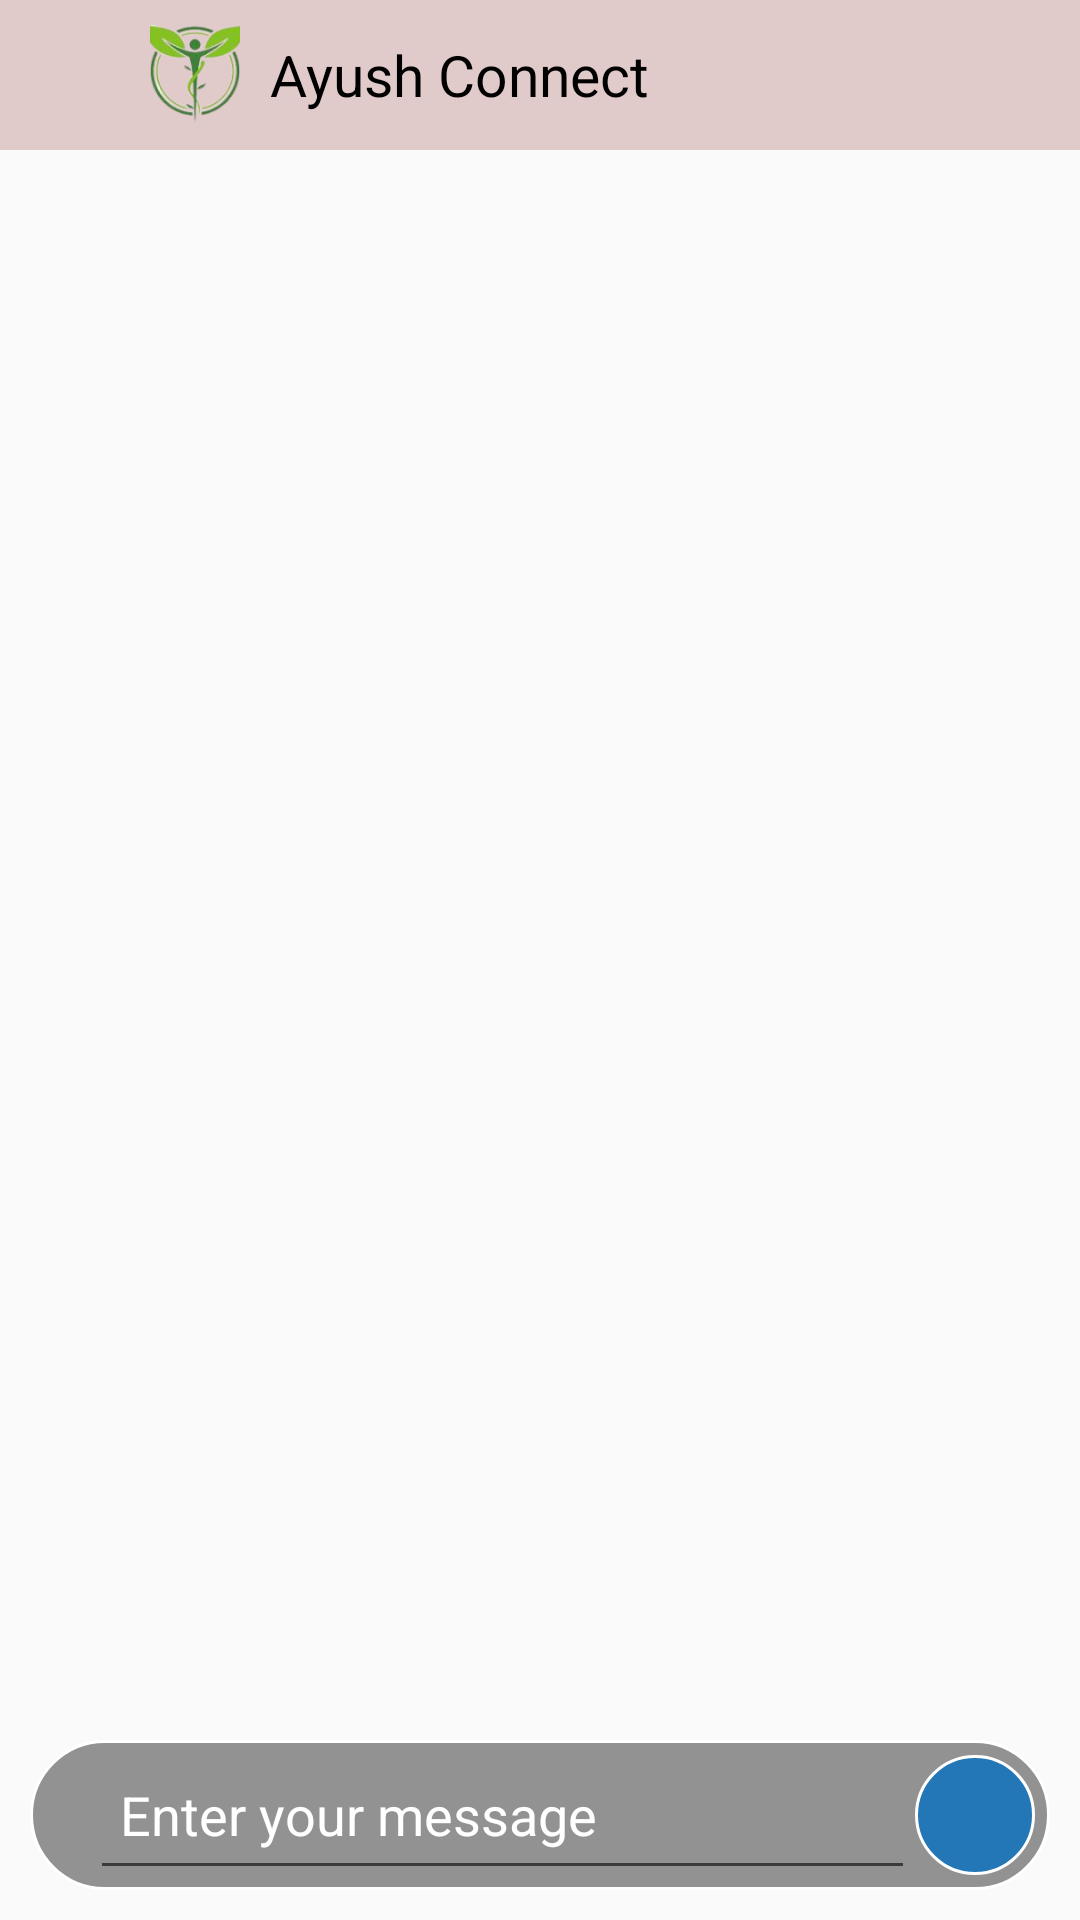

Named icons in this screenshot (1080×1920) and their centers, point (x, y):
ayurveda: point (195, 72)
